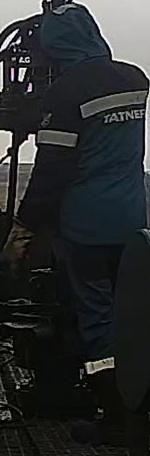gloves: (2, 214, 35, 265)
vest: (15, 55, 149, 244)
